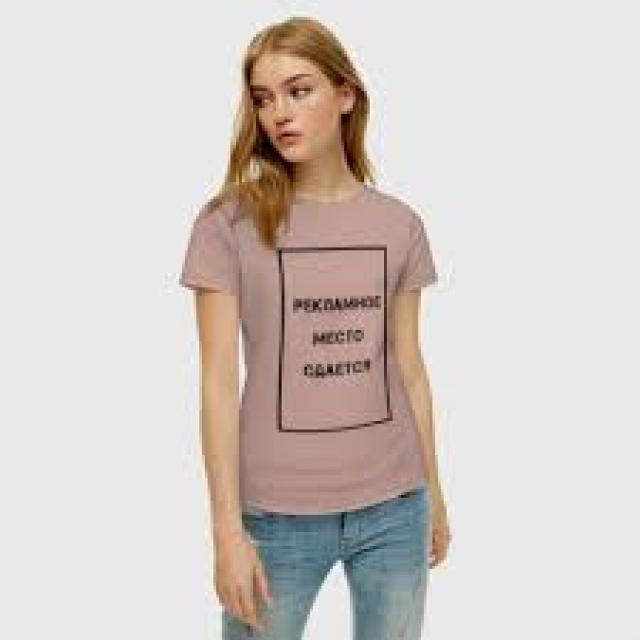Shirt: (155, 174, 490, 531)
